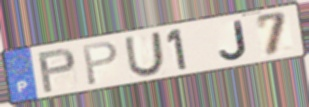1: (164, 27, 191, 72)
7: (255, 9, 292, 59)
J: (218, 19, 250, 62)
P: (36, 46, 78, 95), (81, 39, 120, 87)
U: (123, 30, 167, 79)
